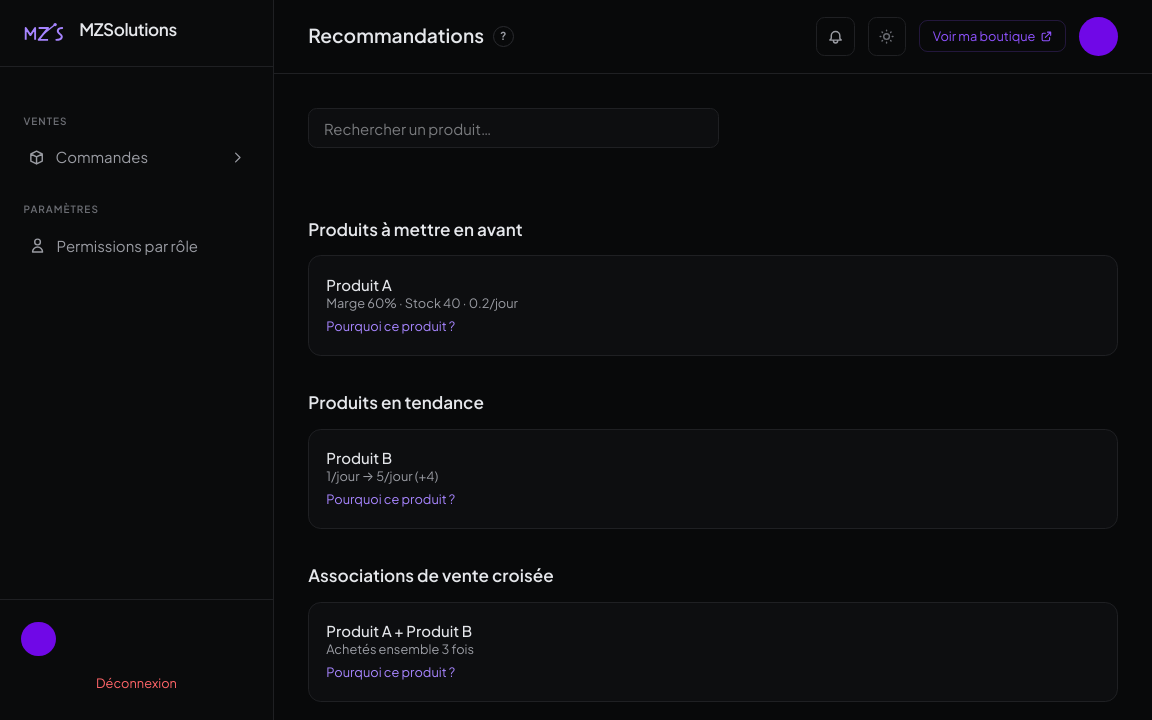
Scenario: RecommendationsPage › affiche l'explication IA au clic sur "Pourquoi ce produit ?"
Check: the text "Produit A" is shown, box top-left (326, 274), bottom-right (392, 294)
Click the button "Pourquoi ce produit ?" below "Marge" at (391, 327), box top-left (326, 318), bottom-right (455, 335)
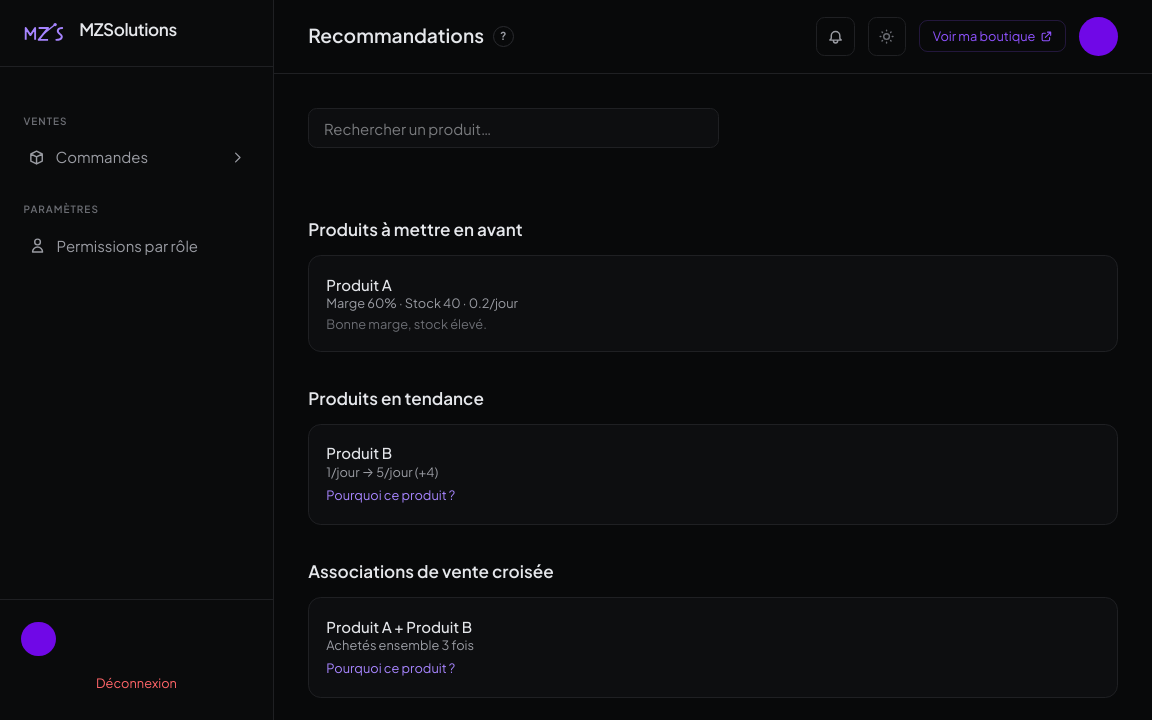
Check: the text "Bonne marge, stock élevé." is shown, box top-left (326, 316), bottom-right (487, 332)
